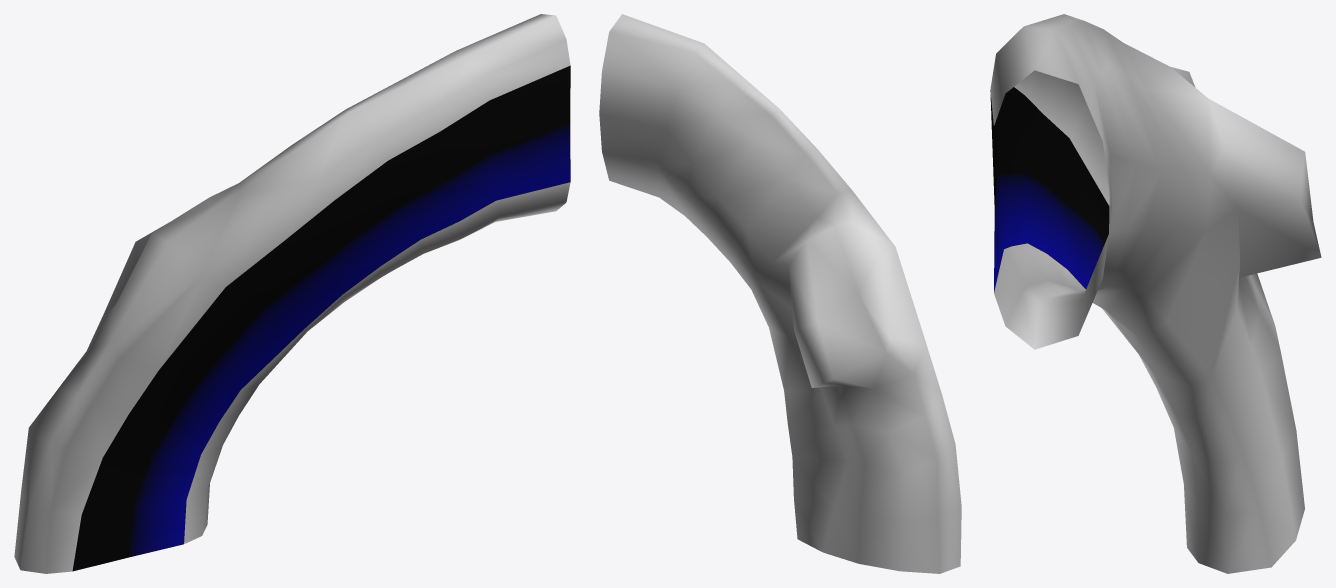
The model's file is Volcano_BridgeRampCurveA.glb.
3 renders of one model, left to right at view 1: azimuth 30°, elevation 25°; view 2: azimuth 150°, elevation 25°; view 3: azimuth 270°, elevation 25°, orthographic. The views are drawn at different scales.
Visible parts, largest first — view 1: MeshNode_0, MeshNode_1; view 2: MeshNode_0; view 3: MeshNode_0, MeshNode_1.
Part boxes in pixels (<box>): MeshNode_0: <box>14,14,570,573</box>; MeshNode_1: <box>72,65,570,571</box>; MeshNode_0: <box>599,14,961,573</box>; MeshNode_0: <box>990,14,1321,573</box>; MeshNode_1: <box>990,87,1109,291</box>.
Size of the model in its own units: 79.98 by 79.98 by 34.32.
